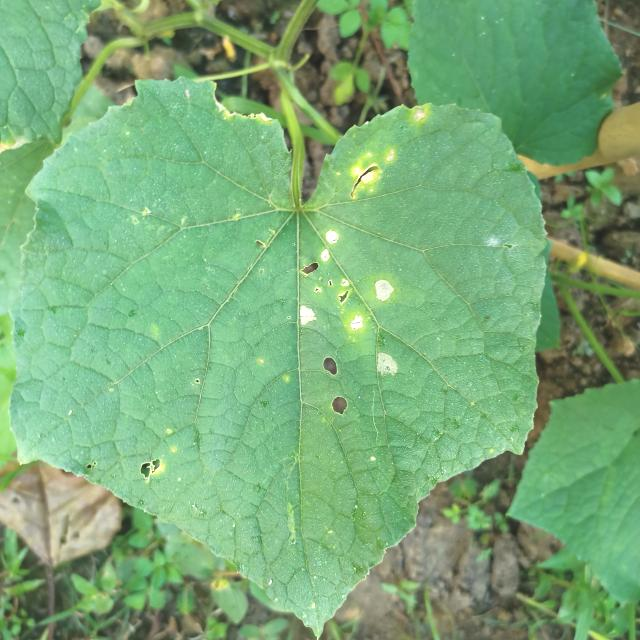disease_cucumber: (286, 220, 414, 383)
